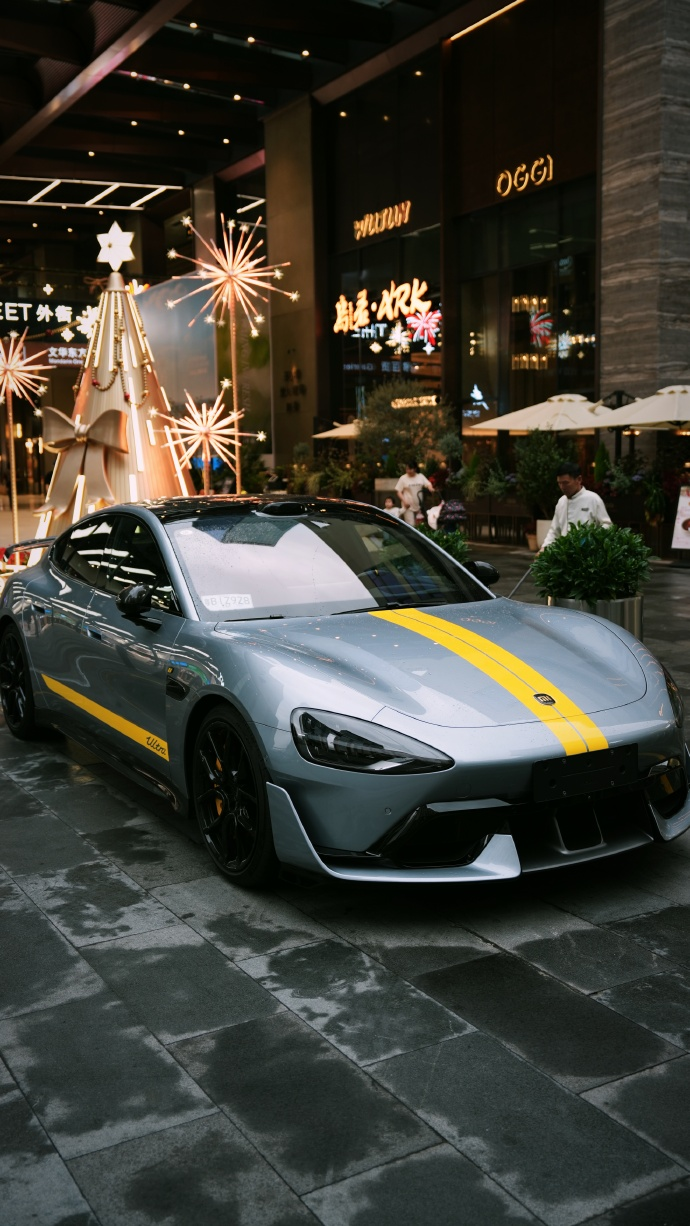su7: (9, 499, 690, 906)
